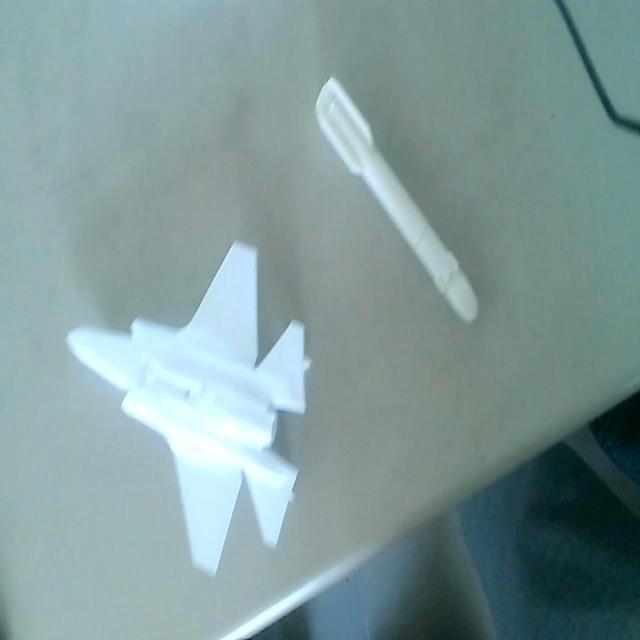Jet: (65, 239, 311, 578)
Rocket: (312, 67, 480, 325)
